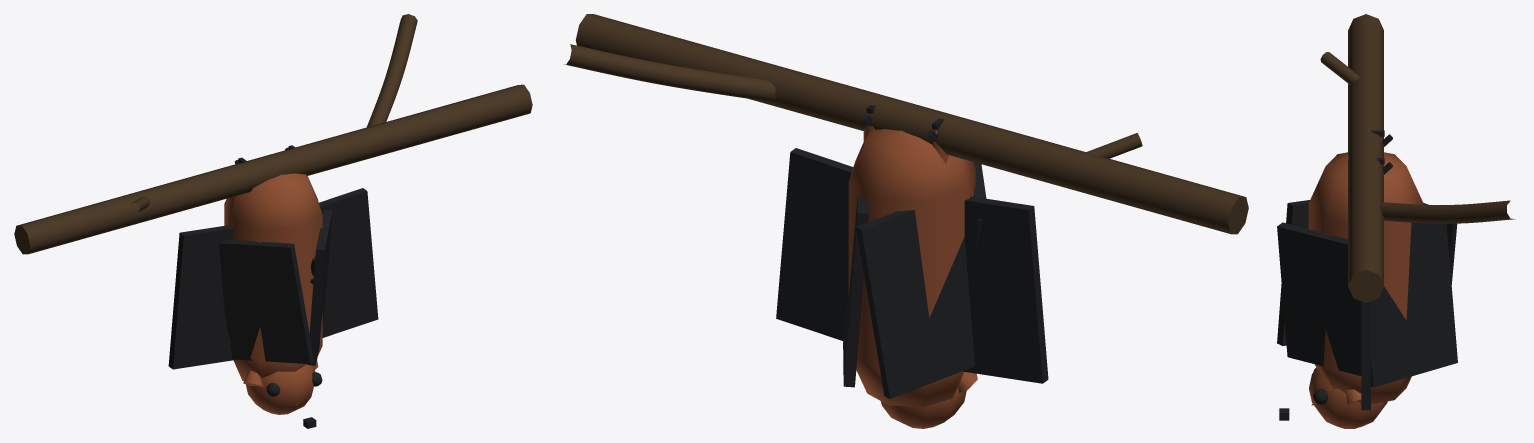
File: flying-fox-fruit-bat.glb
3 renders of one model, left to right at view 1: azimuth 30°, elevation 25°; view 2: azimuth 150°, elevation 25°; view 3: azimuth 270°, elevation 25°, orthographic. The views are drawn at different scales.
Visible parts, largest first — view 1: Mesh_MainBranch, Mesh_RightWingFront, Mesh_BatBody, Mesh_RightWingSide, Mesh_LeftWingSide, Mesh_HeadGroup, Mesh_SideTwig, Mesh_LeftWingFront; view 2: Mesh_MainBranch, Mesh_BatBody, Mesh_RightWingBack, Mesh_RightWingSide, Mesh_LeftWingSide, Mesh_SideTwig, Mesh_LeftWingBack, Mesh_HeadGroup, Mesh_BranchStub; view 3: Mesh_MainBranch, Mesh_LeftWingFront, Mesh_LeftWingBack, Mesh_BatBody, Mesh_SideTwig, Mesh_HeadGroup, Mesh_LeftWingSide, Mesh_RightWingFront, Mesh_BranchStub, Mesh_RightWingBack.
Boxes of the visible parts, x1,y1,x2,y2 form: Mesh_MainBranch: (14,84,532,254); Mesh_RightWingFront: (219,239,313,364); Mesh_BatBody: (224,173,322,380); Mesh_RightWingSide: (168,225,235,369); Mesh_LeftWingSide: (319,188,378,337); Mesh_HeadGroup: (246,364,315,414); Mesh_SideTwig: (367,14,417,127); Mesh_LeftWingFront: (307,210,332,365); Mesh_MainBranch: (575,14,1248,234); Mesh_BatBody: (848,129,975,407); Mesh_RightWingBack: (856,210,974,398); Mesh_RightWingSide: (962,196,1048,383); Mesh_LeftWingSide: (776,148,853,340); Mesh_SideTwig: (564,44,776,102); Mesh_LeftWingBack: (843,196,868,387); Mesh_HeadGroup: (881,387,966,428); Mesh_BranchStub: (1085,133,1142,158); Mesh_MainBranch: (1348,14,1383,302); Mesh_LeftWingFront: (1277,222,1361,375); Mesh_LeftWingBack: (1371,222,1457,387); Mesh_BatBody: (1308,152,1423,404); Mesh_SideTwig: (1379,200,1515,223); Mesh_HeadGroup: (1309,368,1387,428); Mesh_LeftWingSide: (1361,301,1370,410); Mesh_RightWingFront: (1277,200,1309,345); Mesh_BranchStub: (1320,52,1359,85); Mesh_RightWingBack: (1423,203,1457,284).
Size of the model in its own units: 0.801 by 0.4512 by 0.2968.
